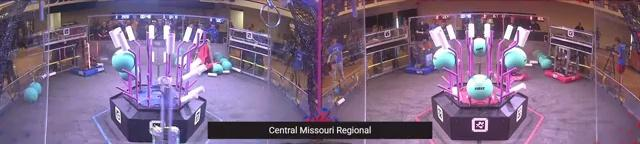reef: (430, 23, 529, 139), (109, 24, 206, 142)
robot: (149, 75, 182, 144), (71, 38, 106, 79), (545, 46, 583, 83), (407, 39, 437, 75), (192, 40, 220, 72), (502, 68, 529, 81)
